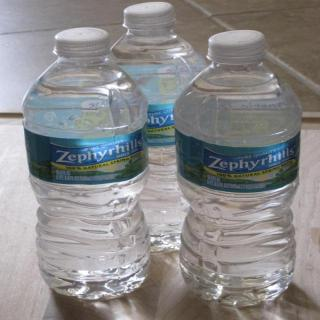Anorganik: (179, 26, 306, 308), (27, 26, 153, 301), (113, 6, 194, 254)
